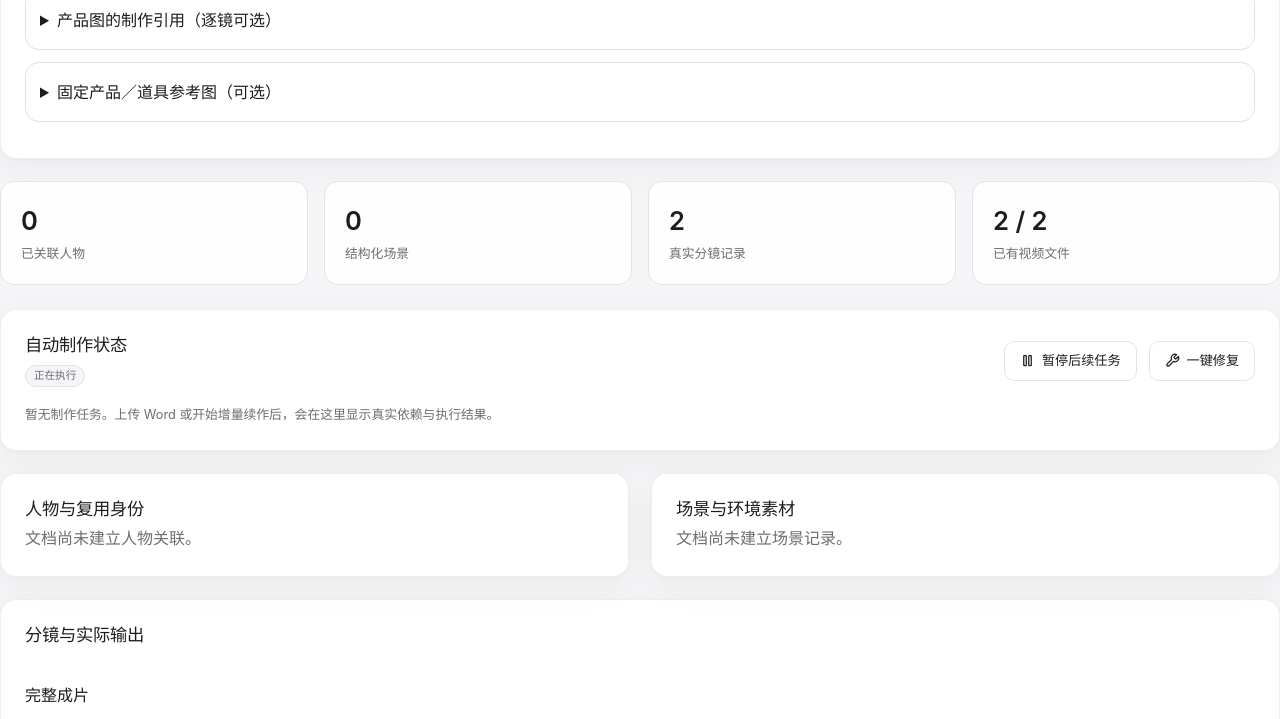
Studio UI contracts › reports every keyframe reference without claiming preflight is completed inference
The image size is (1280, 719).
(page scrolled)
Click the button "一键修复" at (1202, 361), box [1148, 341, 1255, 381]
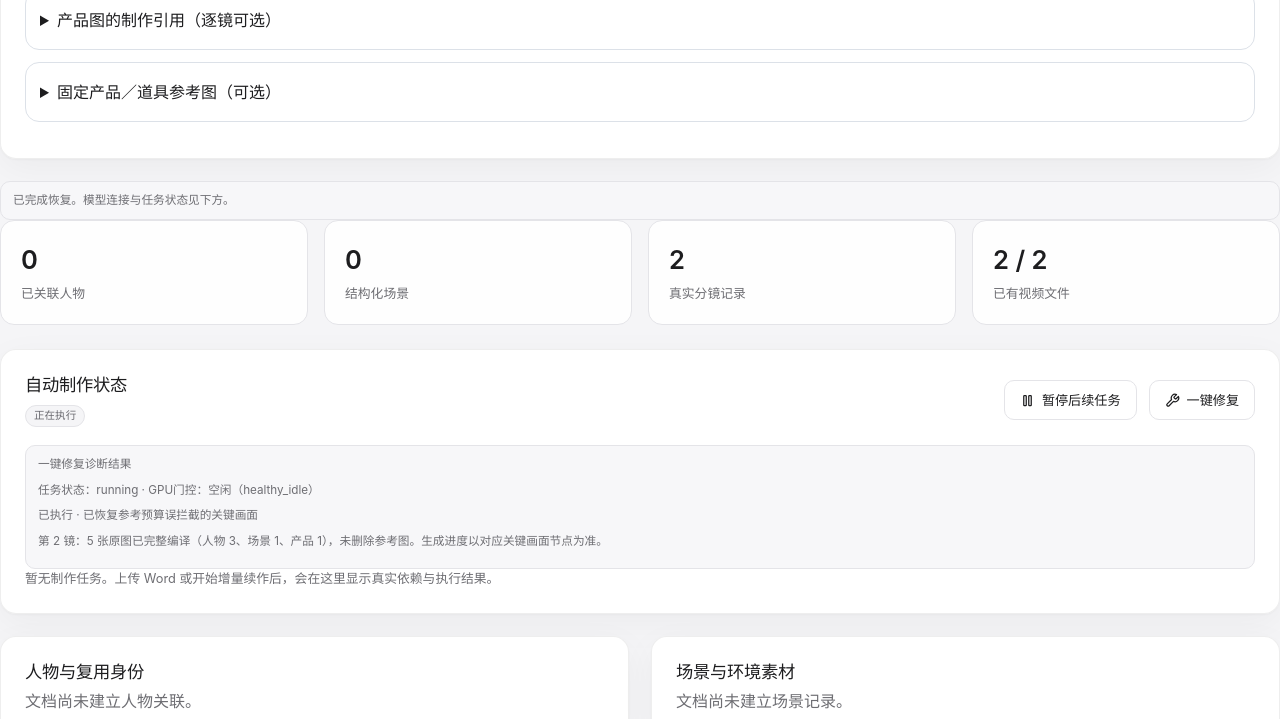
Now the text "一键修复诊断结果" shows "第 2 镜：5 张原图已完整编译（人物 3、场景 1、产品 1）", box [25, 445, 1255, 569]
Now the text "一键修复诊断结果" shows "未删除参考图。生成进度以对应关键画面节点为准。", box [322, 534, 608, 548]
